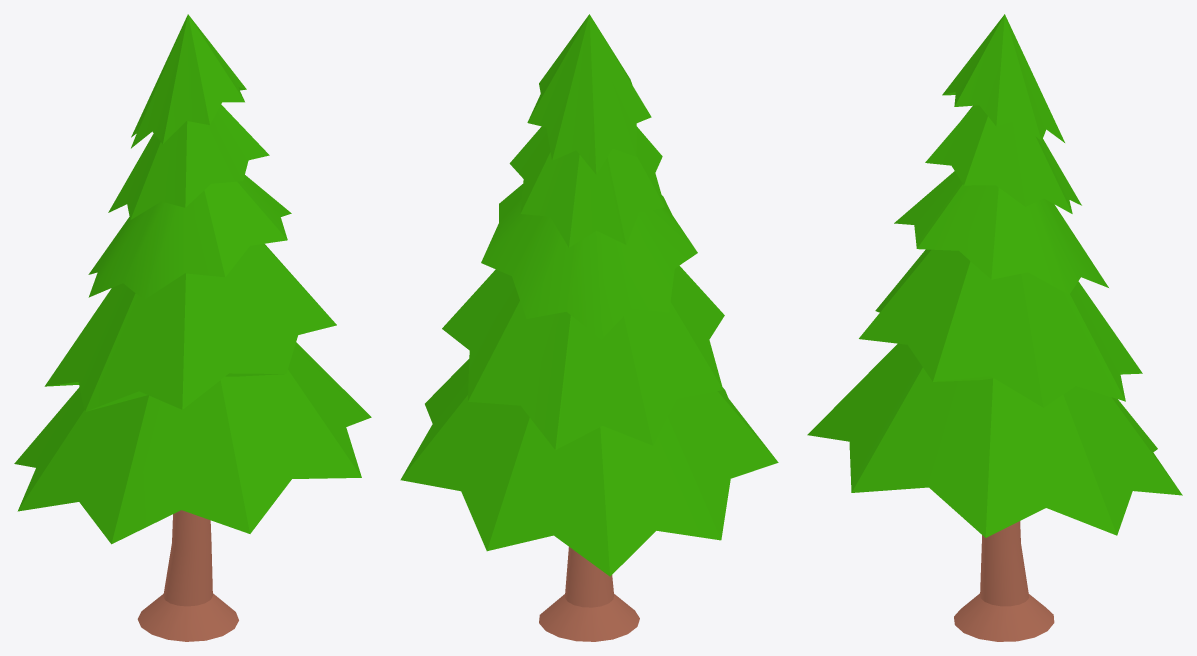
Rendered from object_172_lev1.glb.
3 renders of one model, left to right at view 1: azimuth 30°, elevation 25°; view 2: azimuth 150°, elevation 25°; view 3: azimuth 270°, elevation 25°, orthographic.
Visible parts, largest first — view 1: object_172_lev1; view 2: object_172_lev1; view 3: object_172_lev1.
Part boxes in pixels (x1,y1,x2,y2): object_172_lev1: (14,14,371,641); object_172_lev1: (400,14,778,641); object_172_lev1: (807,14,1182,641).
Bounding box in the file's own units: 0.7165 × 1.28 × 0.7165.
1 material, 1 textured.
